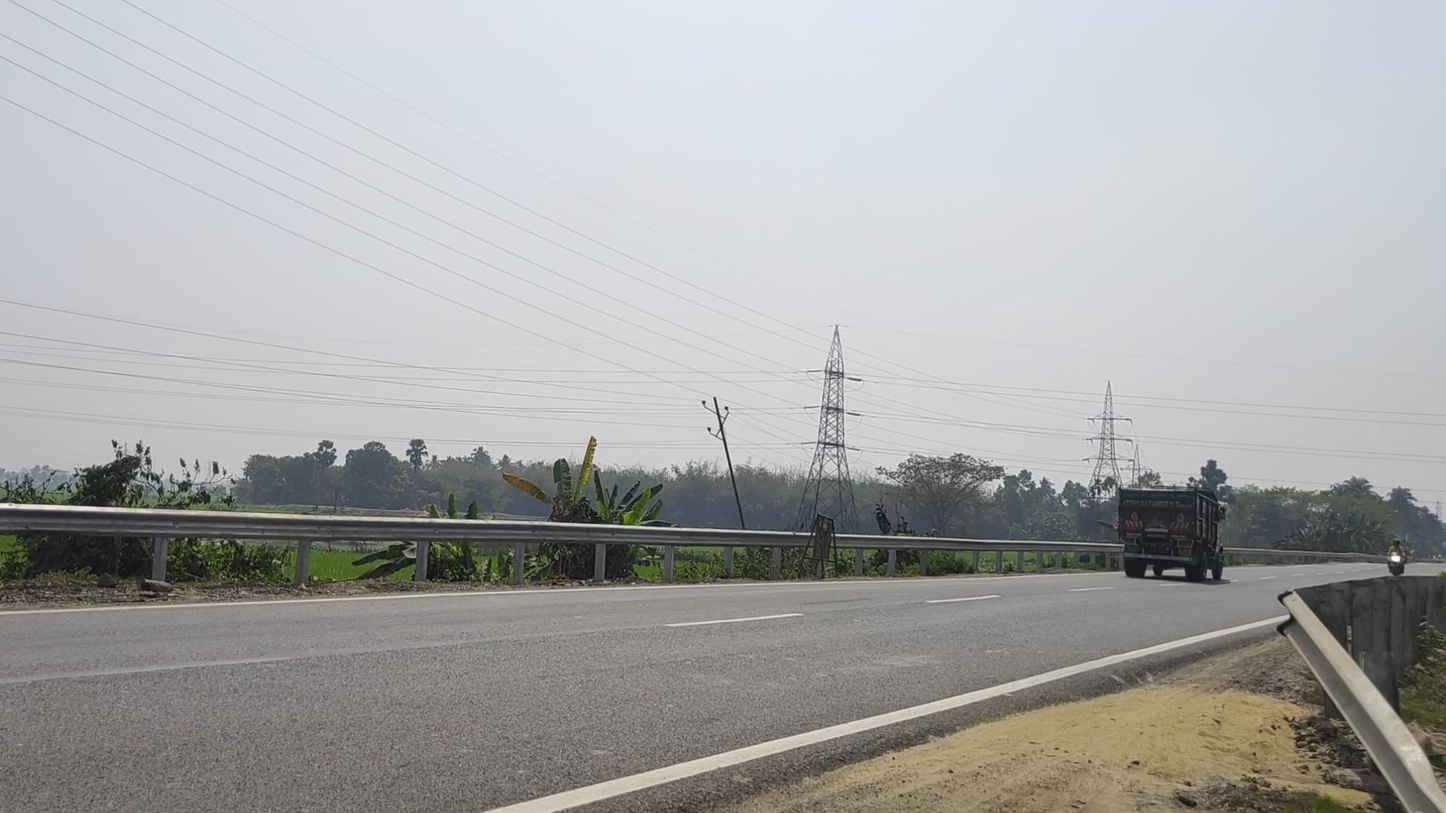bike: (1385, 538, 1409, 577)
truck: (1118, 483, 1225, 582)
